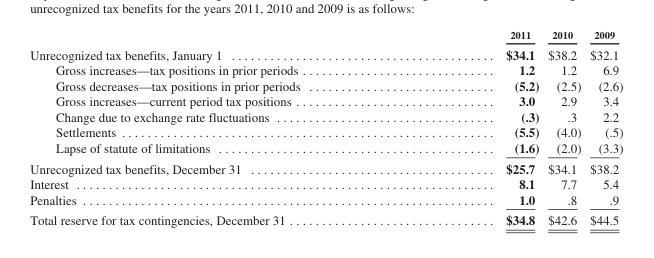table: (29, 28, 622, 227)
table column: (29, 28, 402, 227), (402, 28, 542, 227), (542, 28, 584, 227), (584, 28, 622, 227)
table column header: (29, 28, 622, 43)
table row: (29, 43, 622, 62), (29, 139, 622, 157), (29, 157, 622, 175), (29, 191, 622, 209), (29, 209, 622, 227), (29, 77, 622, 93), (29, 108, 622, 124), (29, 175, 622, 191), (29, 28, 622, 43), (29, 62, 622, 77), (29, 93, 622, 108), (29, 124, 622, 139)
